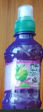blueberries: (1, 5, 42, 110)
